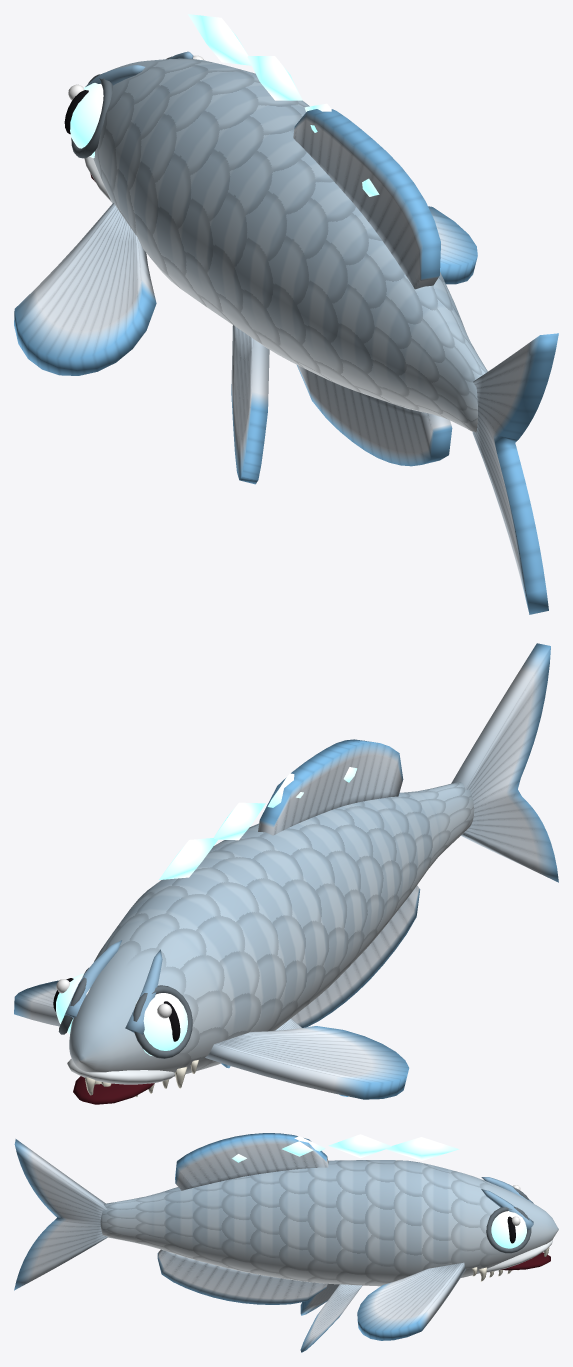
Rendered from Icefish.glb.
The picture shows the model from 3 angles, top to bottom: view 1: azimuth 30°, elevation 25°; view 2: azimuth 150°, elevation 25°; view 3: azimuth 270°, elevation 25°; orthographic projection. The views are drawn at different scales.
Parts seen in each view (by area): view 1: Icefish, Icefish_Glow; view 2: Icefish, Icefish_Glow; view 3: Icefish, Icefish_Glow.
Boxes of the visible parts, x1,y1,x2,y2 form: Icefish: (14,51,558,614); Icefish_Glow: (70,14,379,196); Icefish: (14,643,558,1104); Icefish_Glow: (56,767,357,1055); Icefish: (14,1133,558,1352); Icefish_Glow: (232,1134,526,1248).
Size of the model in its own units: 1.45 by 1.16 by 2.86.
2 materials, 1 textured.
